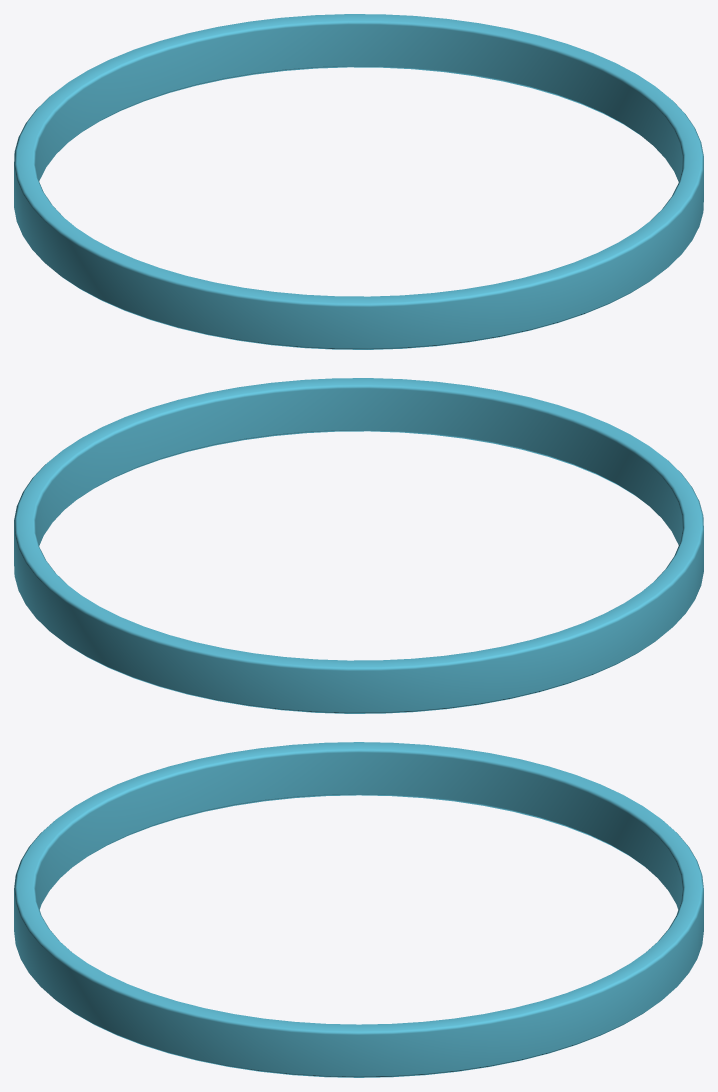
3 views of the same model, one above another, from view 1: azimuth 30°, elevation 25°; view 2: azimuth 150°, elevation 25°; view 3: azimuth 270°, elevation 25° (orthographic).
Parts seen in each view (by area): view 1: seal_body; view 2: seal_body; view 3: seal_body.
Part boxes in pixels (x1,y1,x2,y2): seal_body: [14, 14, 703, 349]; seal_body: [14, 378, 703, 713]; seal_body: [14, 742, 703, 1077].
Bounding box in the file's own units: 0.08 × 0.006 × 0.08.
